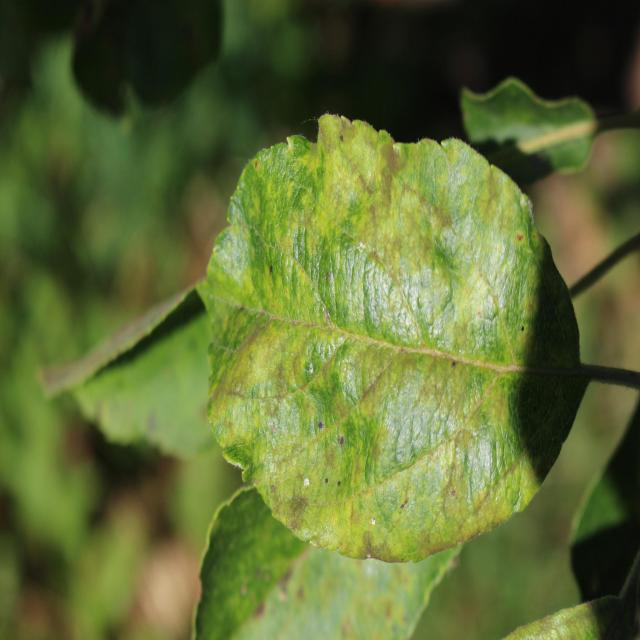Rust: (512, 221, 533, 260)
scab: (198, 113, 590, 550), (177, 494, 448, 640)
